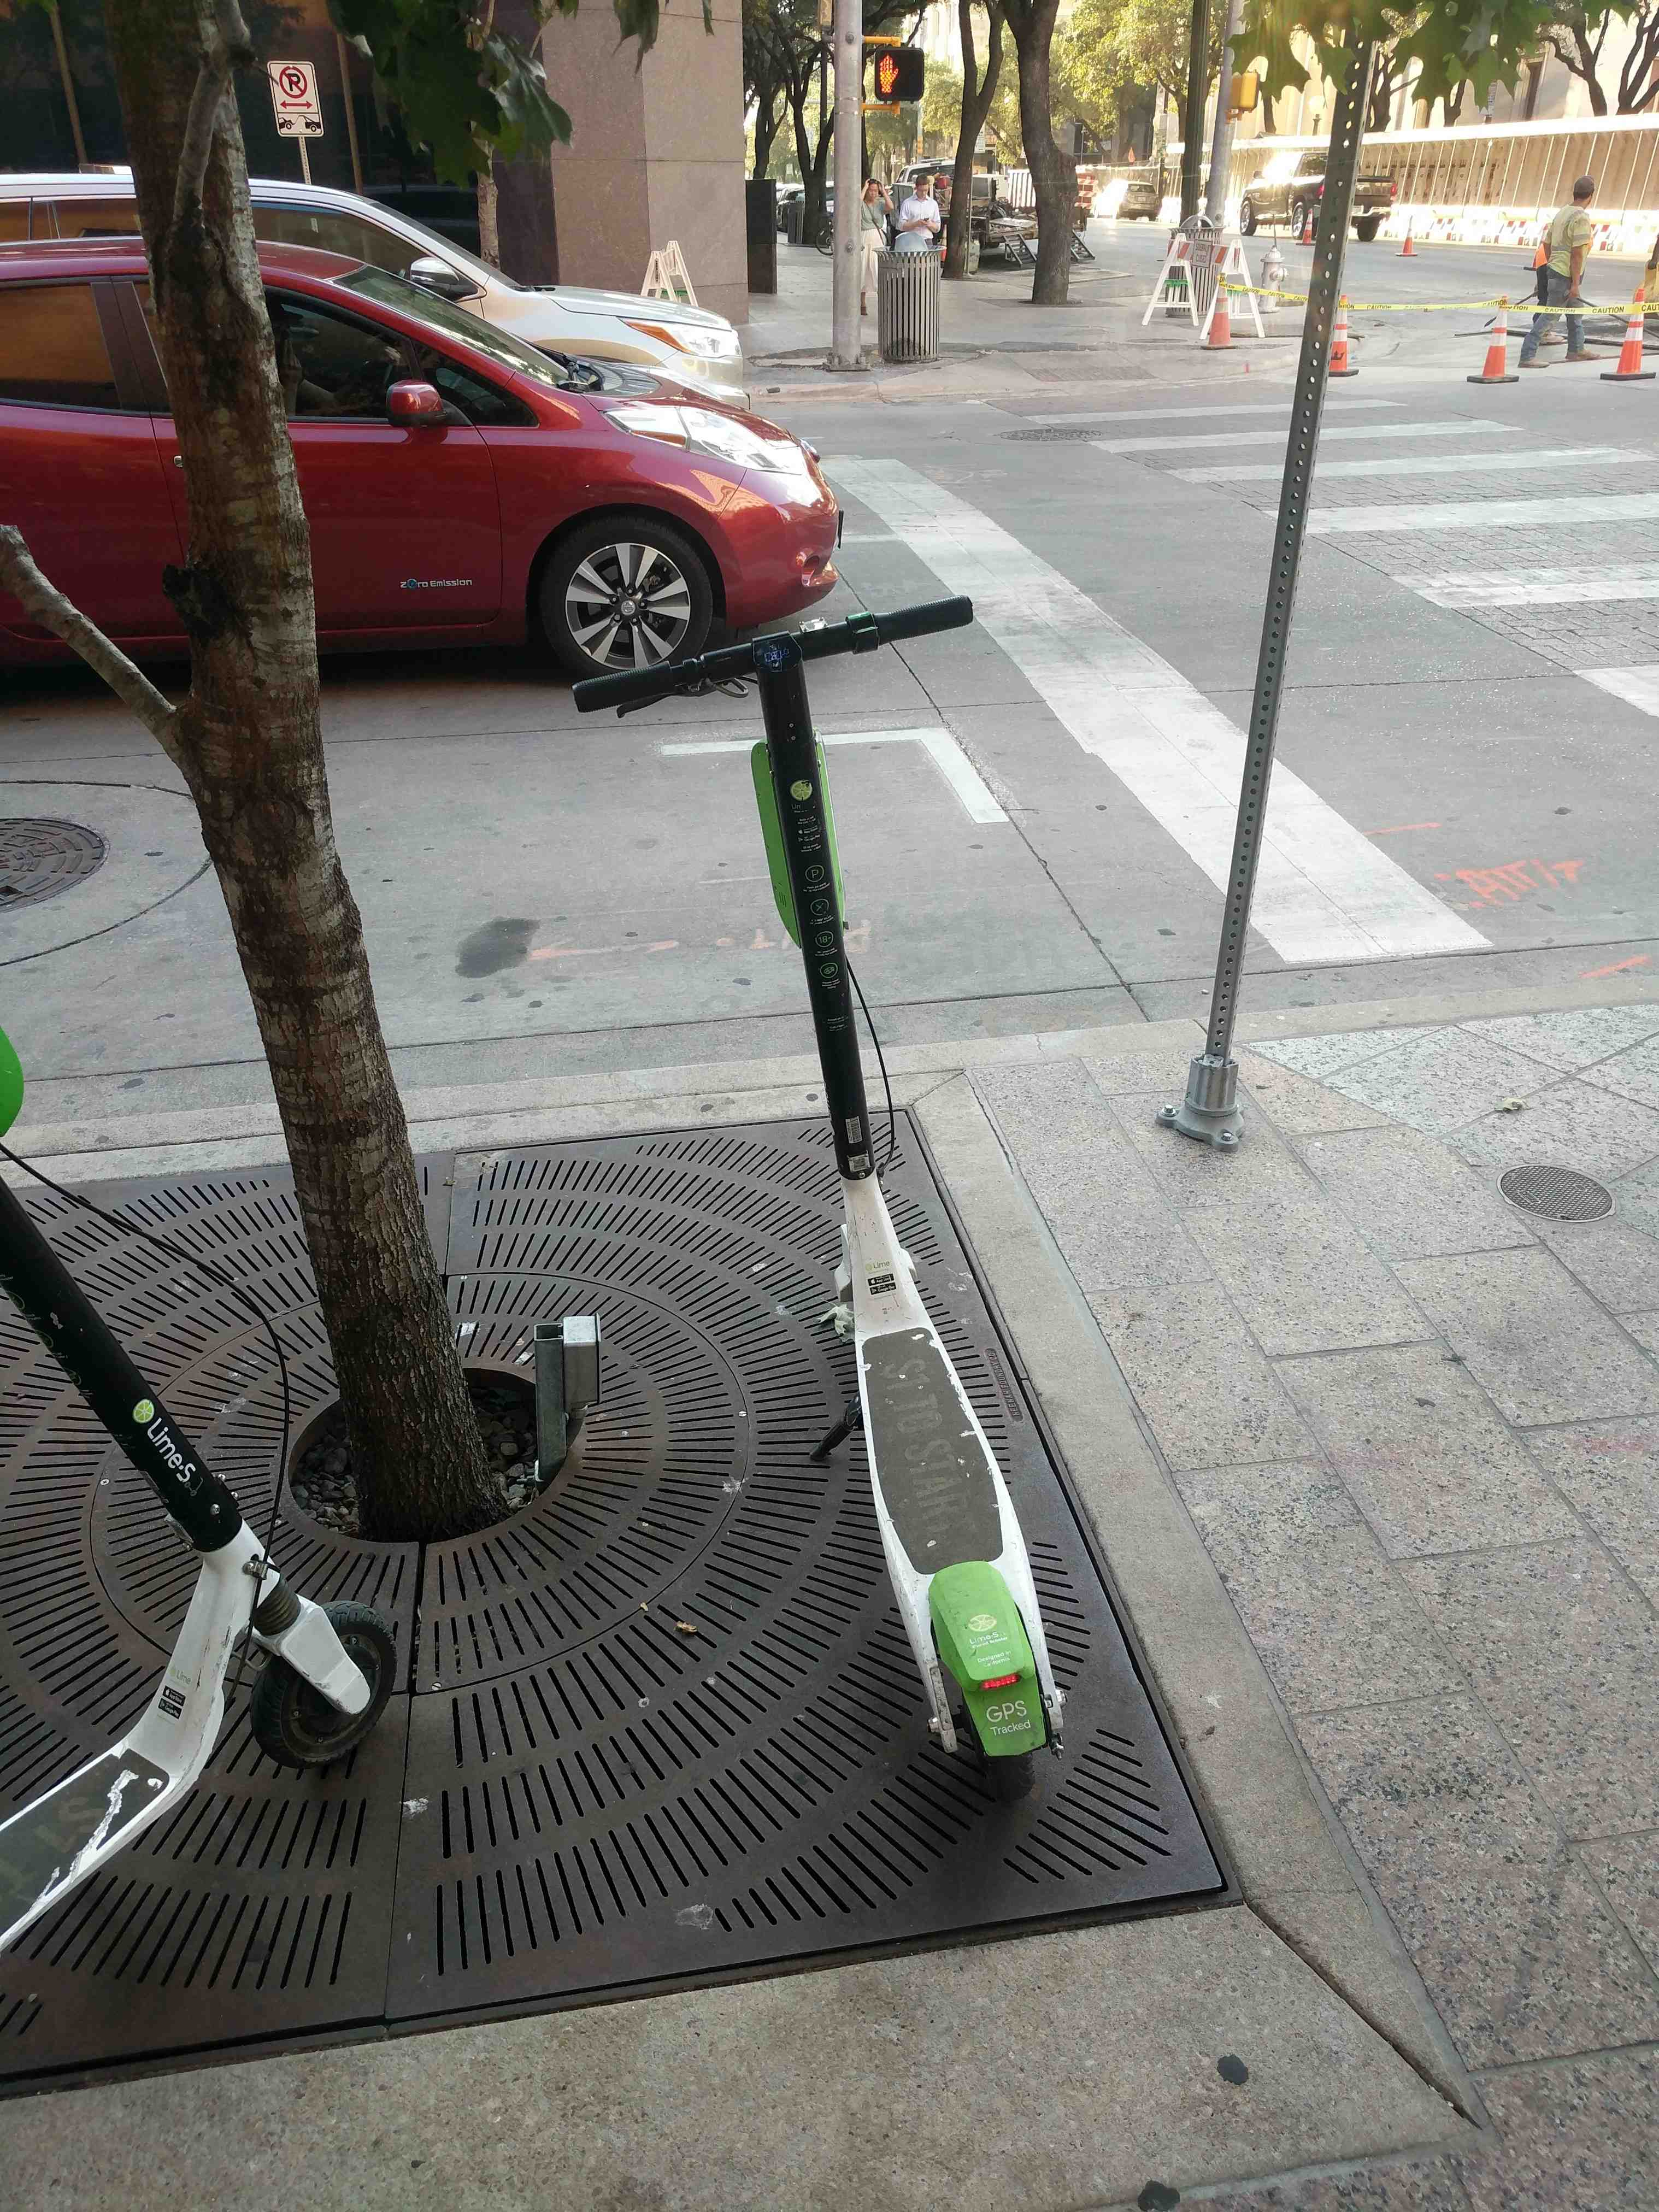scooter: (537, 545, 1131, 1791)
